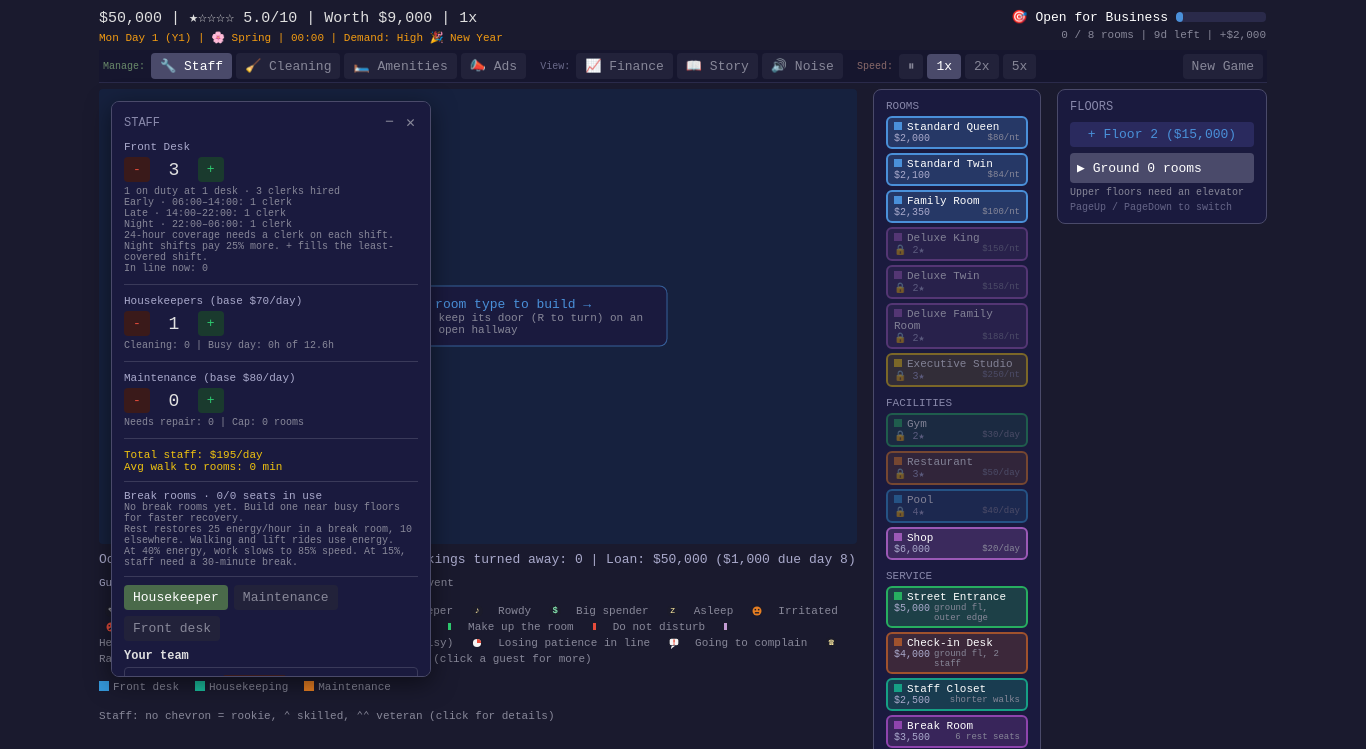
Test: explains candidate hospitality and offers only desk specialties for a clerk
Click the button "Front desk" at (172, 628), box 124,616 -> 220,641
(page scrolled)
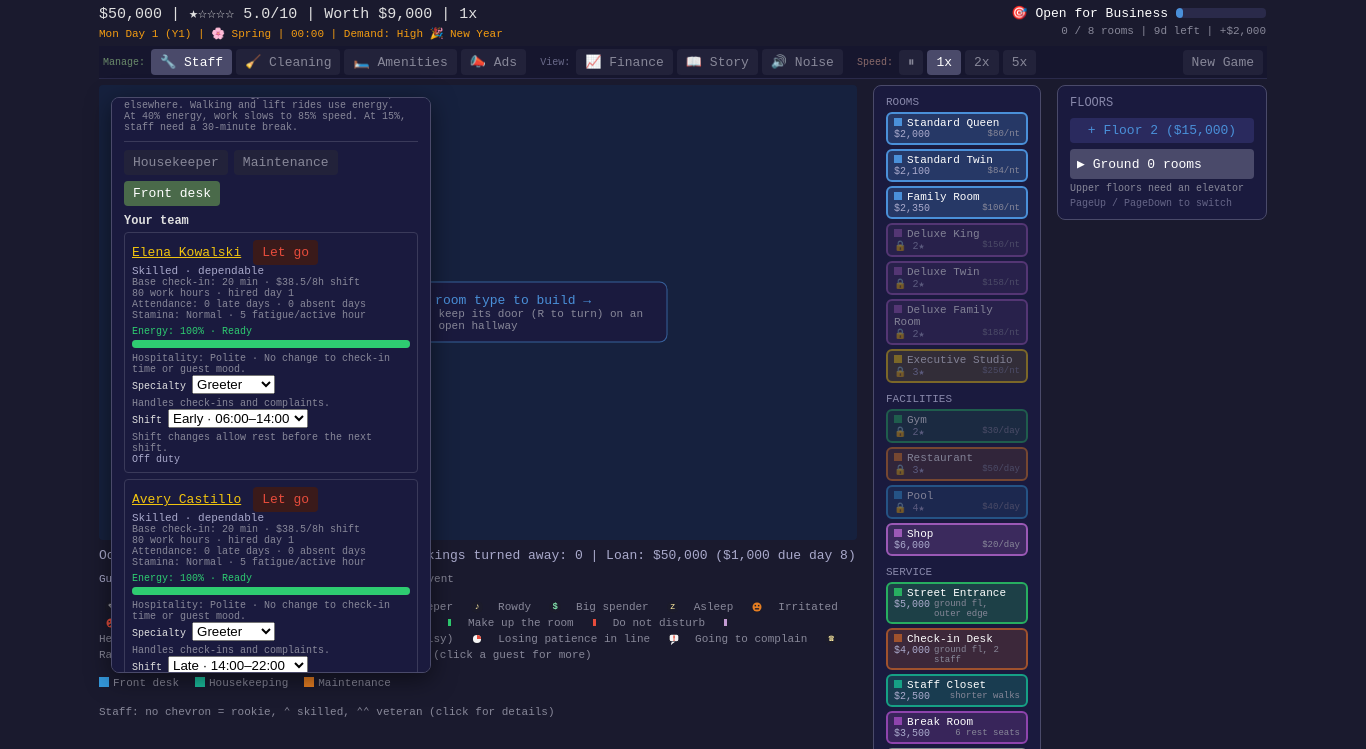
Select "Upseller" in the 1st dropdown labelled "Specialty" at (234, 384), box 192,375 -> 275,394
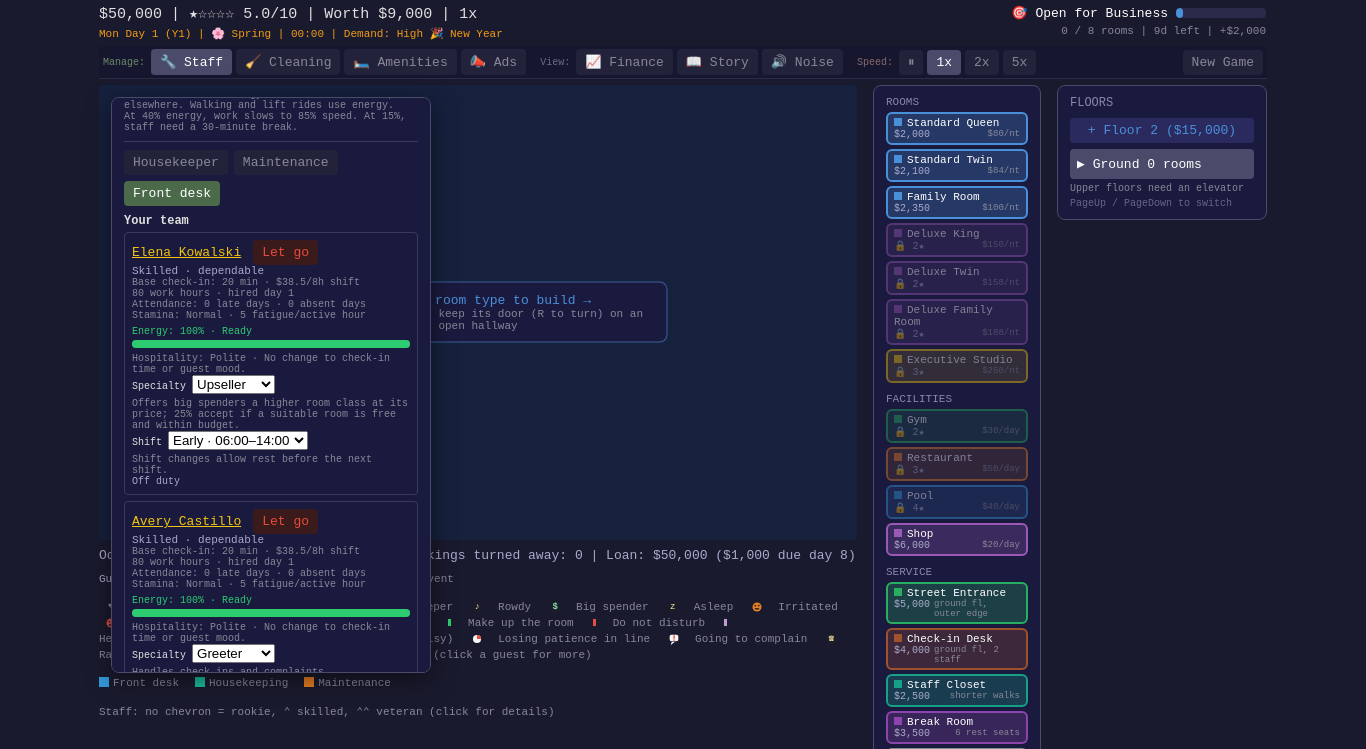
Now the text "Offers big spenders a higher room class at its price; 25% accept if a suitable room is free and within budget." is shown, box 132,398 -> 408,431
